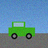vehicle: (9, 22, 35, 39)
